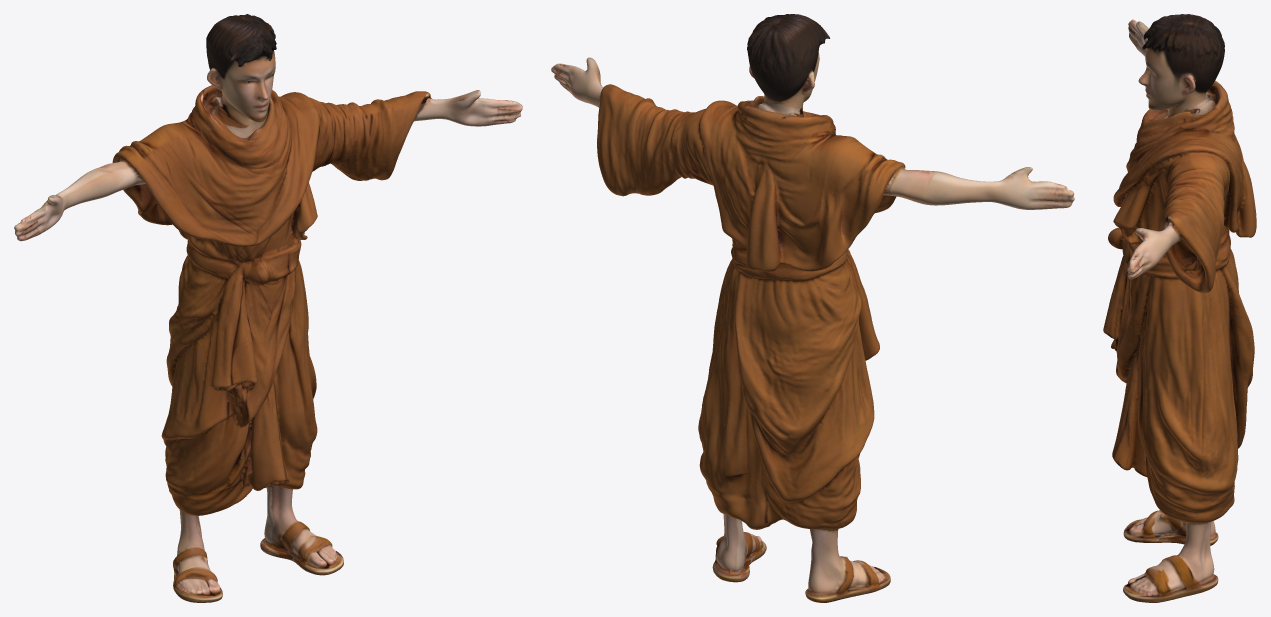
Rendered from Monk_in_Serenity_0815220721_texture.fbx.
The picture shows the model from 3 angles, left to right: view 1: azimuth 30°, elevation 25°; view 2: azimuth 150°, elevation 25°; view 3: azimuth 270°, elevation 25°; orthographic projection. The views are drawn at different scales.
Visible parts, largest first — view 1: input; view 2: input; view 3: input.
Part boxes in pixels (x1,y1,x2,y2): input: [14, 14, 522, 602]; input: [551, 14, 1074, 602]; input: [1103, 14, 1256, 602].
Bounding box in the file's own units: 194 × 199 × 50.64.
1 material, 1 textured.
